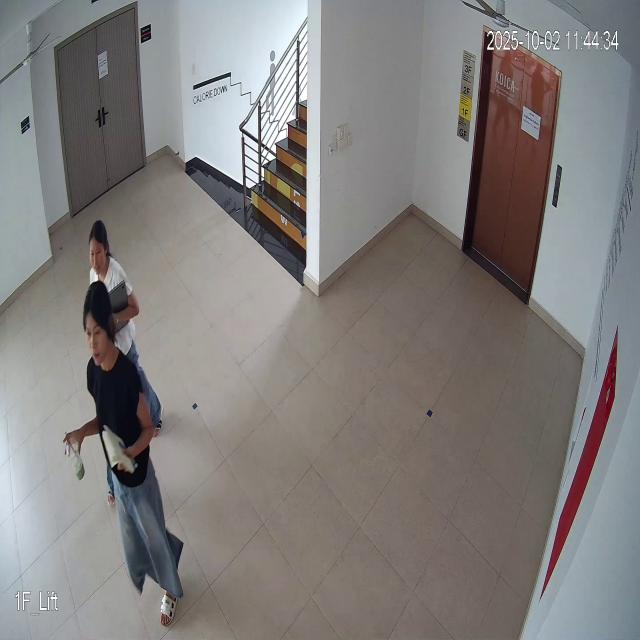face: (83, 280, 116, 368), (85, 218, 112, 278)
